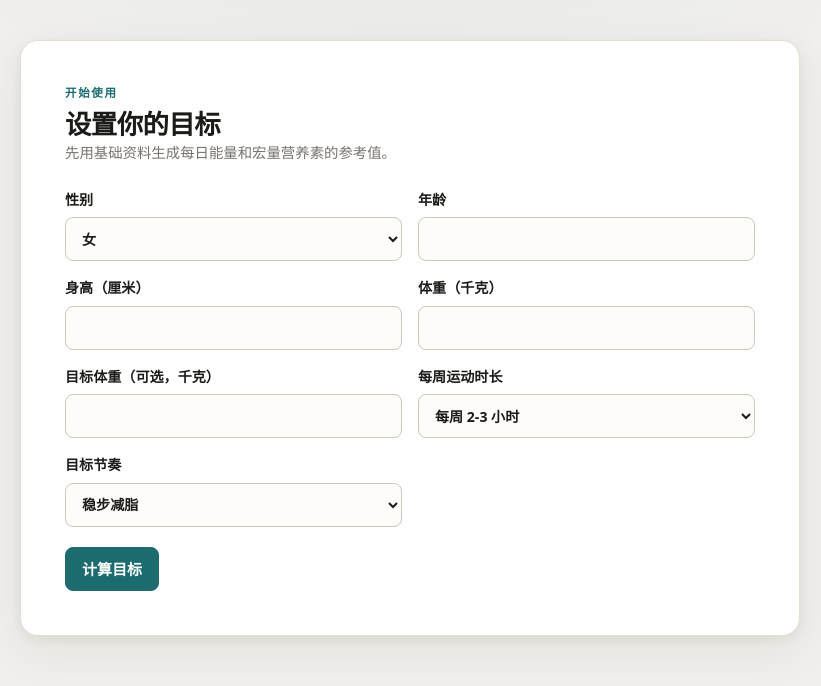
it: onboarding rejects invalid numeric values and profiles below age 18
expect the heading "设置你的目标" is shown: met, box [65, 106, 220, 142]
Type "0" into the number field labelled "年龄" at {"x": 586, "y": 239}, box [418, 217, 755, 261]
Click the button "计算目标" at {"x": 112, "y": 569}, box [65, 547, 159, 591]
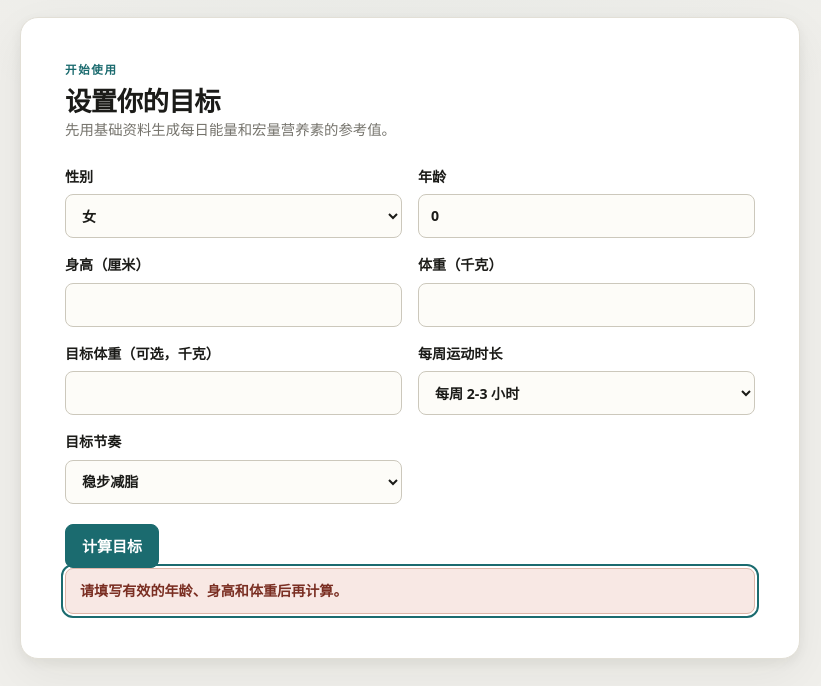
expect the message reads "请填写有效的年龄、身高和体重后再计算。": met, box [80, 581, 348, 600]
Replace the text in the number field labelled "年龄" with "30" at {"x": 586, "y": 216}, box [418, 194, 755, 238]
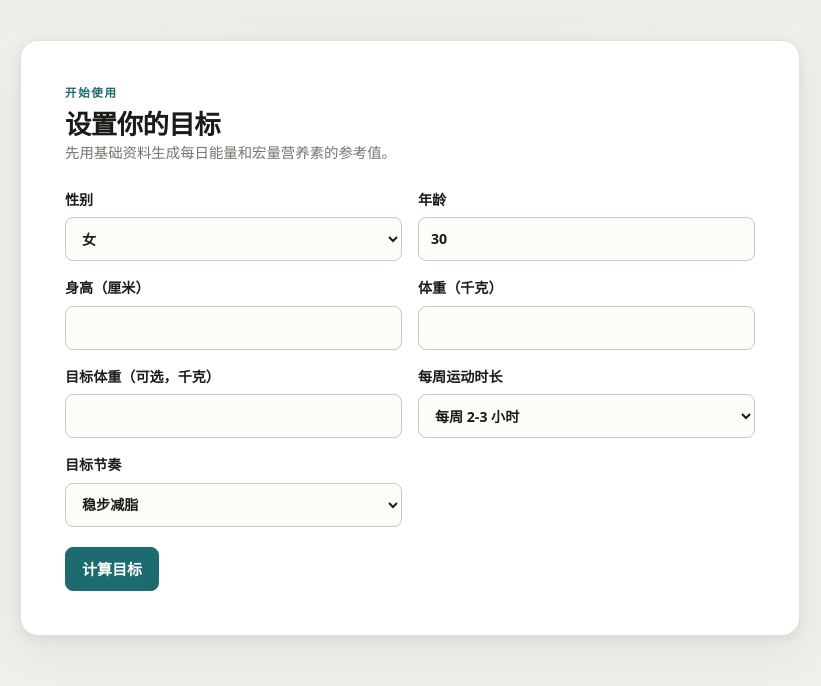
Type "175" into the number field labelled "身高（厘米）" at {"x": 234, "y": 328}, box [65, 306, 402, 350]
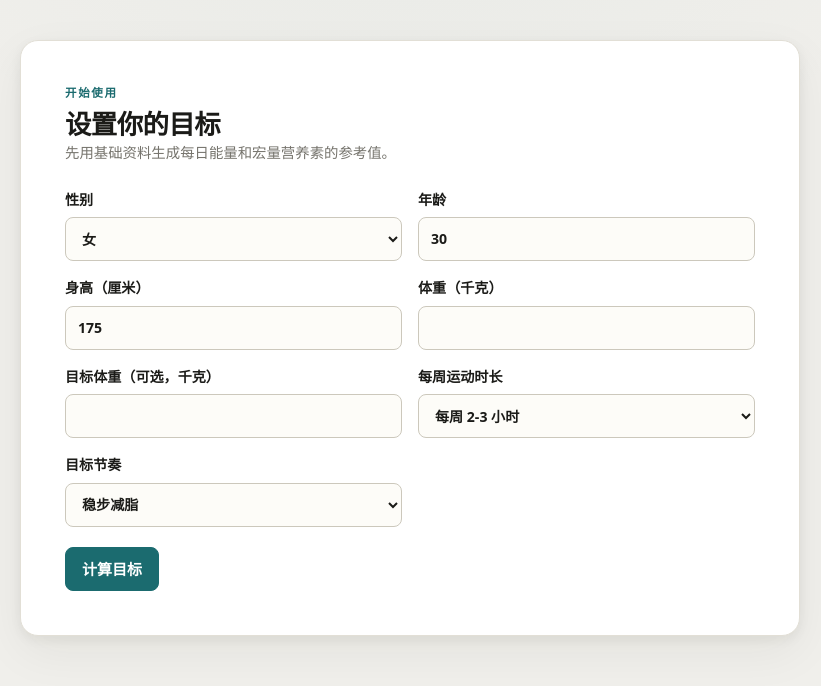
Type "80" into the number field labelled "体重（千克）" at {"x": 586, "y": 328}, box [418, 306, 755, 350]
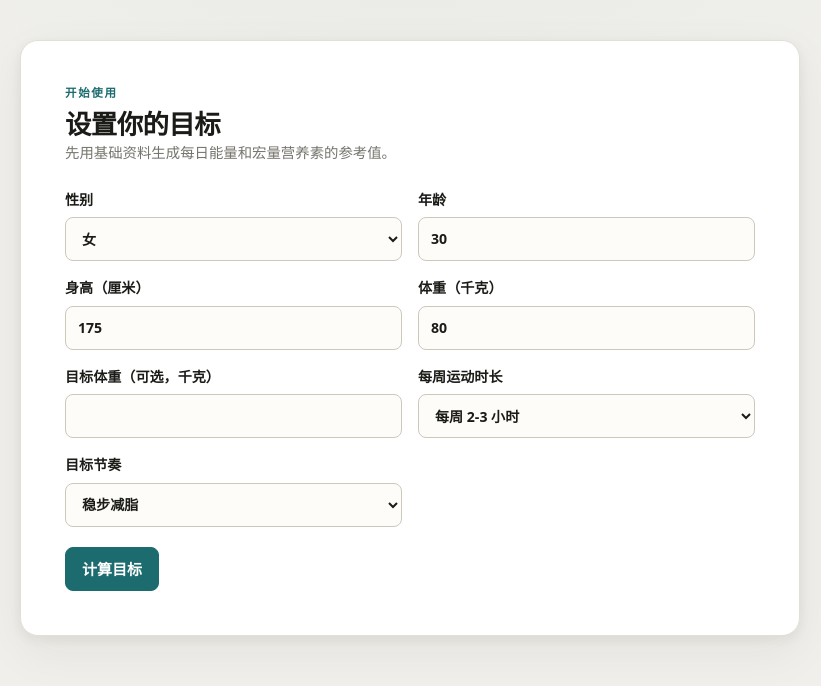
Replace the text in the number field labelled "年龄" with "17" at {"x": 586, "y": 239}, box [418, 217, 755, 261]
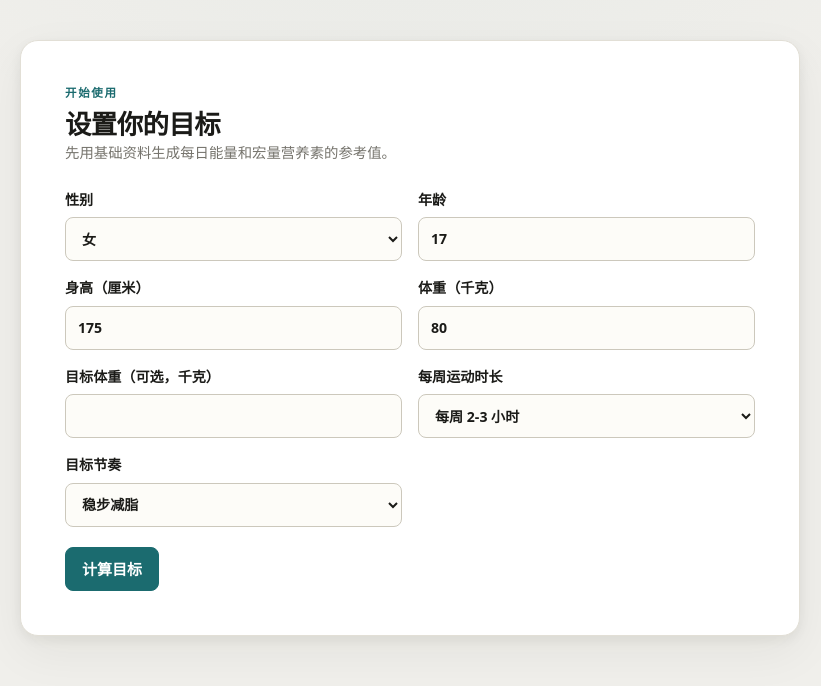
Click the button "计算目标" at {"x": 112, "y": 569}, box [65, 547, 159, 591]
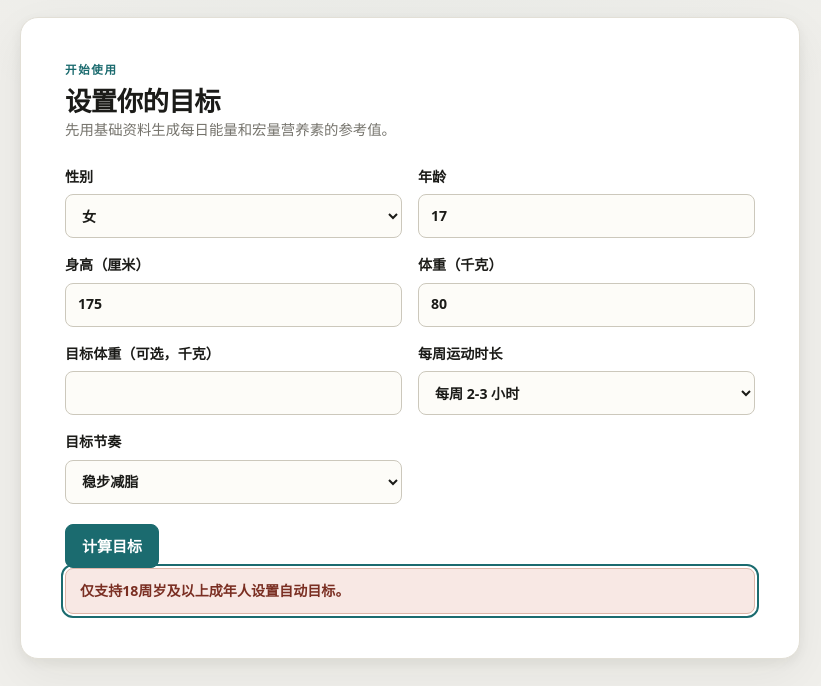
expect the message reads "仅支持18周岁及以上成年人设置自动目标。": met, box [80, 581, 350, 600]
